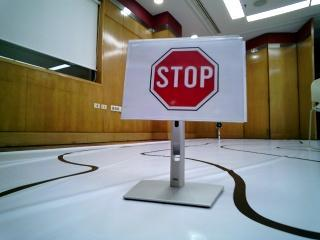stop: (136, 43, 230, 116)
